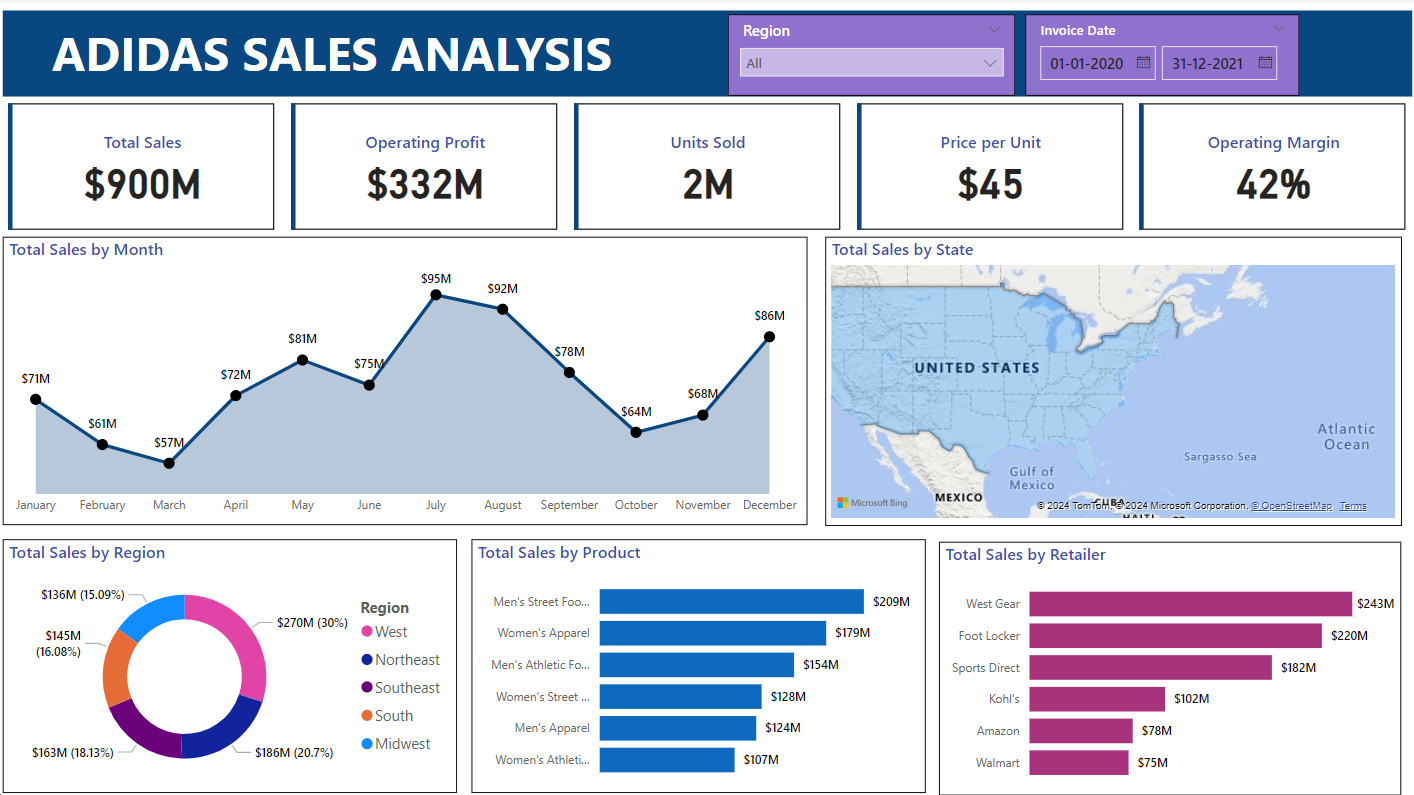

The page's visual inventory and layout, read from the dashboard file:
{"tool":"powerbi","page":{"name":"Page 1","canvas":[1280,720],"ordinal":0},"visuals":[{"type":"shape","box":[3.5,11.6,1270.9,77.9],"z":0},{"type":"textbox","box":[42.8,14.7,574.7,73.4],"z":1000},{"type":"cardVisual","fields":{"Data":["_measures (2).Total Sales","_measures (2).operating Profit","Sum(Data Sales Adidas.Units Sold)","_measures (2).Average of Price per Unit","_measures (2).Average of Operating Margin"]},"box":[3.7,90.5,1270.5,124.7],"z":2000},{"type":"areaChart","fields":{"Category":["Data Sales Adidas.Invoice Date.Variation.Date Hierarchy.Month"],"Y":["_measures (2).Total Sales"]},"box":[3.4,215.3,725.9,260.4],"z":3000},{"type":"filledMap","title":"Total Sales by State","fields":{"Category":["Data Sales Adidas.State"],"Y":["_measures (2).Total Sales"]},"box":[744.7,215.2,519.7,260.5],"z":4000},{"type":"donutChart","fields":{"Category":["Data Sales Adidas.Region"],"Y":["_measures (2).Total Sales"]},"box":[3.7,487.9,409.6,228.7],"z":4001},{"type":"barChart","fields":{"Y":["_measures (2).Total Sales"],"Category":["Data Sales Adidas.Product"]},"box":[425.5,487.9,409.6,228.7],"z":4002},{"type":"barChart","fields":{"Y":["_measures (2).Total Sales"],"Category":["Data Sales Adidas.Retailer"]},"box":[847.6,490.3,417,228.8],"z":4003},{"type":"slicer","fields":{"Values":["Data Sales Adidas.Region"]},"box":[657.1,14.7,259.2,73.3],"z":4004},{"type":"slicer","fields":{"Values":["Data Sales Adidas.Invoice Date"]},"box":[925.4,14.7,246.8,73.3],"z":4005}]}

Visuals, with their boxes in screenshot pixels (x1, y1, x2, y2), scaled from the page's 1280x720 canvas onto the 1414x795 screenshot:
shape: bbox=(4, 13, 1408, 99)
textbox: bbox=(47, 16, 682, 97)
cardVisual - _measures (2).Total Sales x _measures (2).operating Profit: bbox=(4, 100, 1408, 238)
areaChart - Data Sales Adidas.Invoice Date.Variation.Date Hierarchy.Month x _measures (2).Total Sales: bbox=(4, 238, 806, 525)
"Total Sales by State" filledMap: bbox=(823, 238, 1397, 525)
donutChart - Data Sales Adidas.Region x _measures (2).Total Sales: bbox=(4, 539, 457, 791)
barChart - _measures (2).Total Sales x Data Sales Adidas.Product: bbox=(470, 539, 923, 791)
barChart - _measures (2).Total Sales x Data Sales Adidas.Retailer: bbox=(936, 541, 1397, 794)
slicer - Data Sales Adidas.Region: bbox=(726, 16, 1012, 97)
slicer - Data Sales Adidas.Invoice Date: bbox=(1022, 16, 1295, 97)
